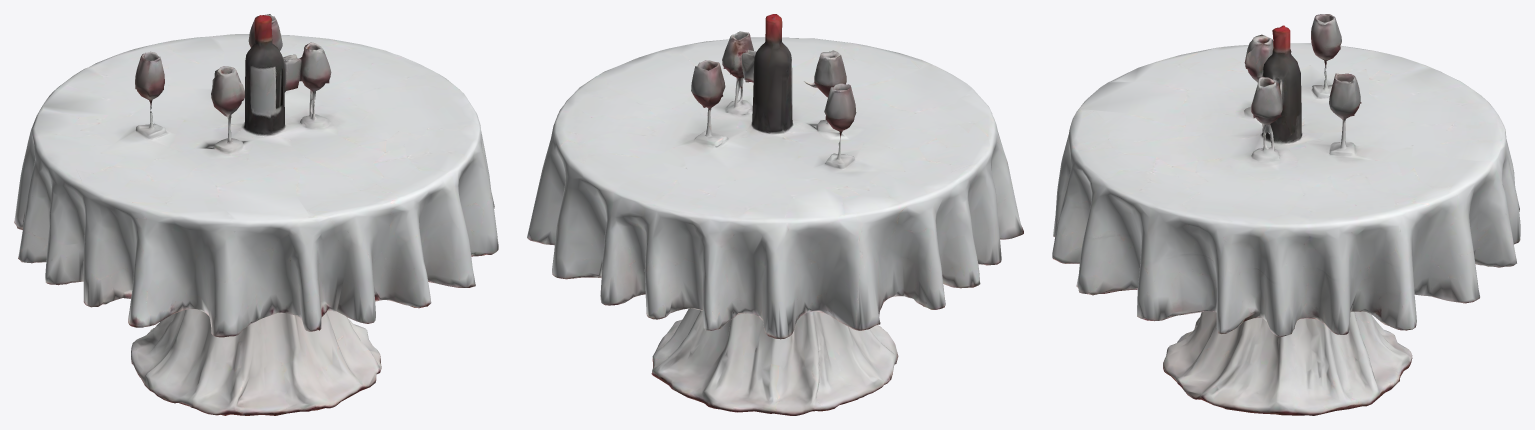
Rendered from lounge-host-table.glb.
3 views of the same model, side by side, from view 1: azimuth 30°, elevation 25°; view 2: azimuth 150°, elevation 25°; view 3: azimuth 270°, elevation 25° (orthographic). The views are drawn at different scales.
Size of the model in its own units: 2 by 1.61 by 2.
1 material, 1 textured.
